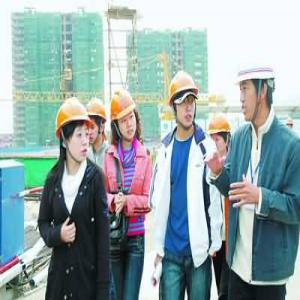white: (233, 54, 279, 124)
yellow: (55, 98, 90, 165), (169, 71, 201, 129), (108, 89, 139, 143), (86, 98, 108, 148), (208, 113, 231, 158)
